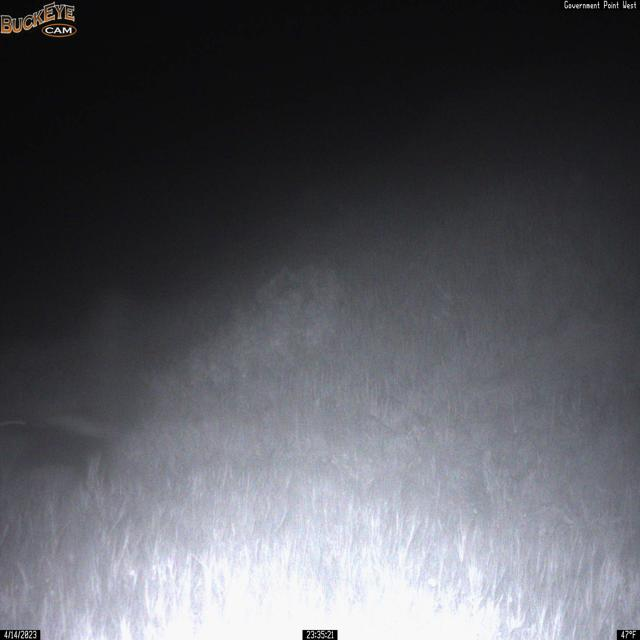skunk: (0, 352, 150, 486)
